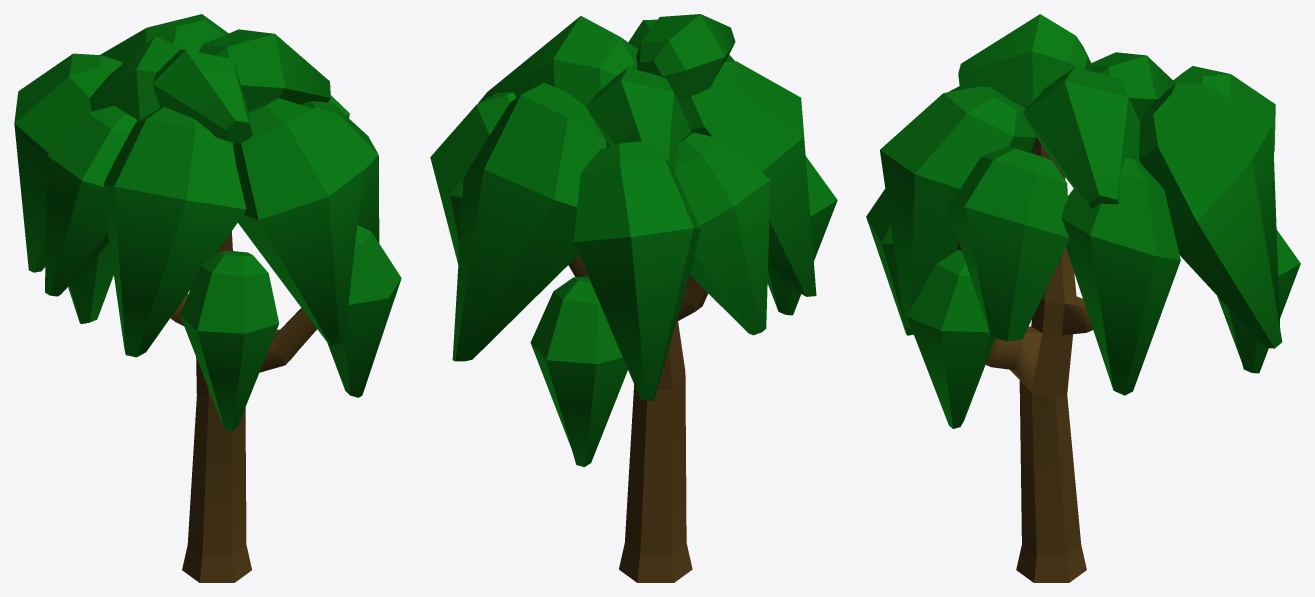
The model's file is Tree-07.fbx.
3 views of the same model, side by side, from view 1: azimuth 30°, elevation 25°; view 2: azimuth 150°, elevation 25°; view 3: azimuth 270°, elevation 25° (orthographic). The views are drawn at different scales.
Visible parts, largest first — view 1: Tree-07; view 2: Tree-07; view 3: Tree-07.
Part boxes in pixels (<box>): Tree-07: <box>14,14,401,582</box>; Tree-07: <box>430,14,837,582</box>; Tree-07: <box>866,14,1300,582</box>.
Size of what is drawn, in the model's own units: 3.78 by 6.44 by 4.72.
